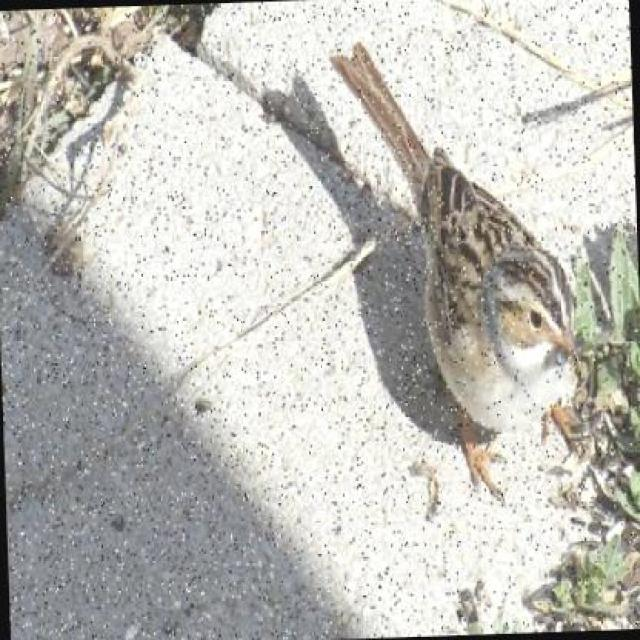Bird: (327, 38, 592, 502)
